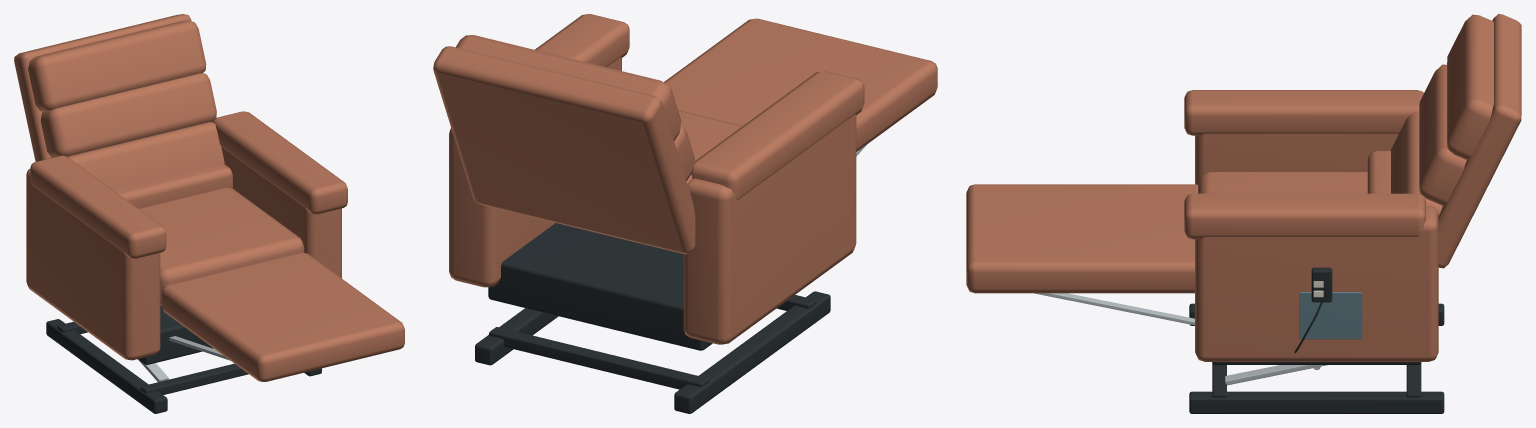
Rendered from lift-recliner-reclined.glb.
3 renders of one model, left to right at view 1: azimuth 30°, elevation 25°; view 2: azimuth 150°, elevation 25°; view 3: azimuth 270°, elevation 25°, orthographic. The views are drawn at different scales.
Visible parts, largest first — view 1: lift-recliner-reclined authored assembly; view 2: lift-recliner-reclined authored assembly; view 3: lift-recliner-reclined authored assembly.
Part boxes in pixels (<box>): lift-recliner-reclined authored assembly: <box>14,14,404,413</box>; lift-recliner-reclined authored assembly: <box>433,14,937,413</box>; lift-recliner-reclined authored assembly: <box>966,14,1521,413</box>.
Bounding box in the file's own units: 0.91 × 1.01 × 1.64.
